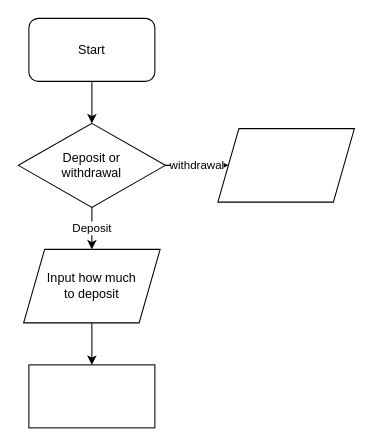
This 373x446 diagram has some shape labels left out. Here are the shapes that lost their labels. From the top down, the box of each, then its label:
(217, 128, 354, 202): Input how much to withdraw
(28, 364, 155, 428): Add the deposit amount to the balance
